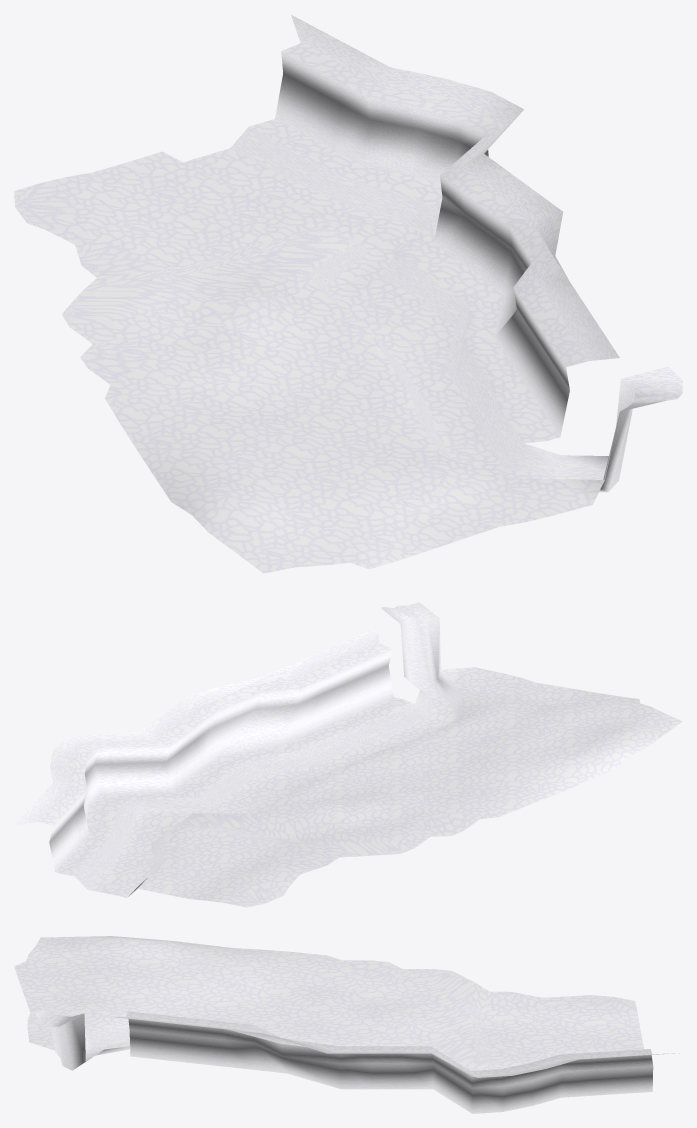
File: environment.glb
The picture shows the model from 3 angles, top to bottom: view 1: azimuth 30°, elevation 25°; view 2: azimuth 150°, elevation 25°; view 3: azimuth 270°, elevation 25°; orthographic projection. The views are drawn at different scales.
Parts seen in each view (by area): view 1: ground; view 2: ground; view 3: ground.
Part boxes in pixels (box(x1,y1,x2,y2)): ground: box(14, 14, 682, 573); ground: box(14, 602, 682, 907); ground: box(14, 936, 679, 1113).
Bounding box in the file's own units: 334 × 56.02 × 495.
1 material, 1 textured.
